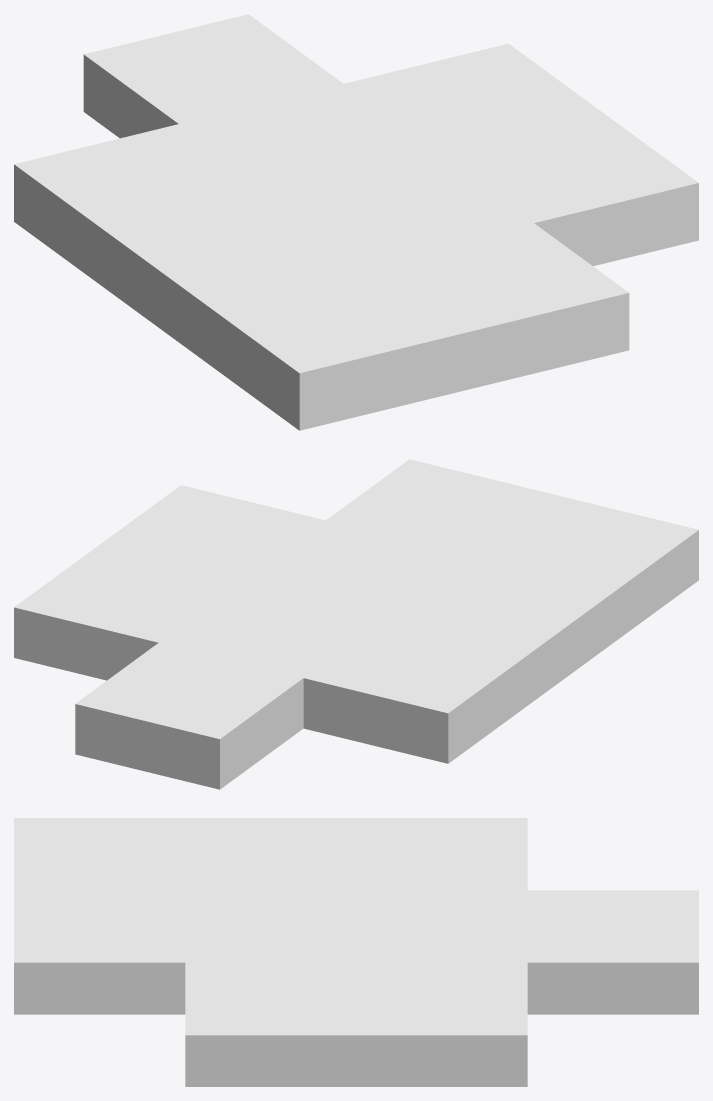
File: cloud5.gltf
3 renders of one model, top to bottom at view 1: azimuth 30°, elevation 25°; view 2: azimuth 150°, elevation 25°; view 3: azimuth 270°, elevation 25°, orthographic. The views are drawn at different scales.
Visible parts, largest first — view 1: cloud5; view 2: cloud5; view 3: cloud5.
Boxes of the visible parts, bbox=[...] form: cloud5: bbox=[14, 14, 698, 430]; cloud5: bbox=[14, 459, 698, 789]; cloud5: bbox=[14, 818, 698, 1086].
Bounding box in the file's own units: 36 × 4 × 48.
Materials: 1 (1 with a texture image).
